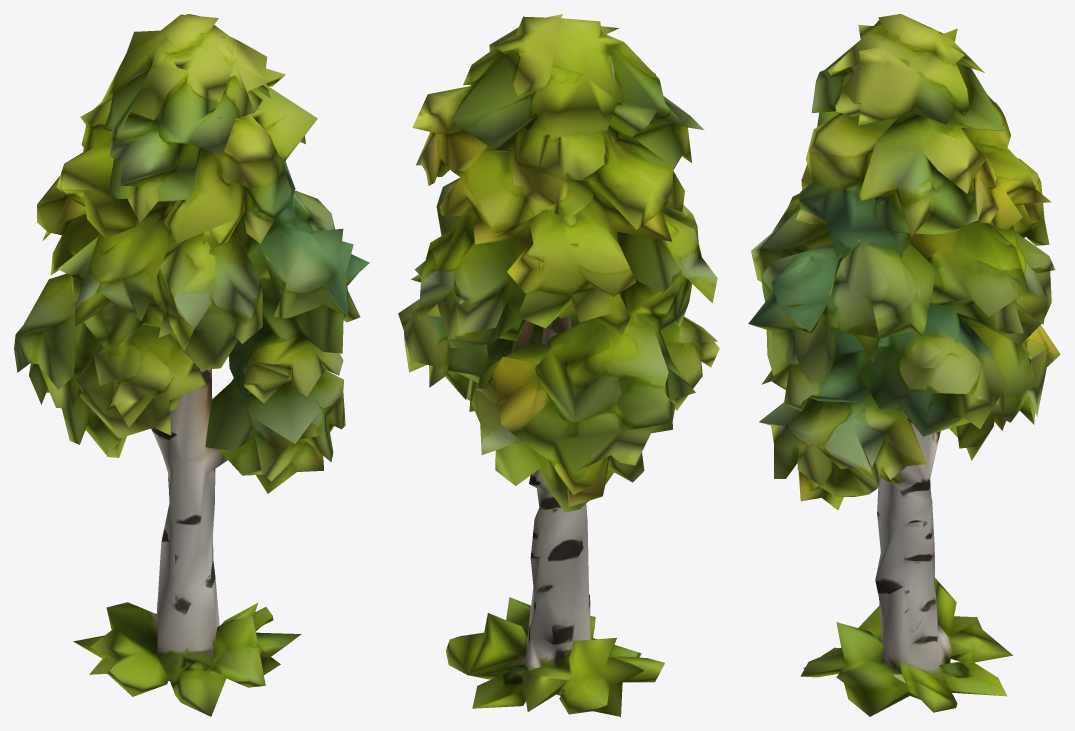
Rendered from env-birch.glb.
The picture shows the model from 3 angles, left to right: view 1: azimuth 30°, elevation 25°; view 2: azimuth 150°, elevation 25°; view 3: azimuth 270°, elevation 25°; orthographic projection. The views are drawn at different scales.
Parts seen in each view (by area): view 1: tripo_node_8fe8464e-f1a4-4d0b-8e62-d82f9ede452f; view 2: tripo_node_8fe8464e-f1a4-4d0b-8e62-d82f9ede452f; view 3: tripo_node_8fe8464e-f1a4-4d0b-8e62-d82f9ede452f.
Boxes of the visible parts, x1,y1,x2,y2 form: tripo_node_8fe8464e-f1a4-4d0b-8e62-d82f9ede452f: (14,14,369,716); tripo_node_8fe8464e-f1a4-4d0b-8e62-d82f9ede452f: (398,14,719,716); tripo_node_8fe8464e-f1a4-4d0b-8e62-d82f9ede452f: (748,14,1060,716).
Size of the model in its own units: 0.4369 by 0.9935 by 0.4252.
1 material, 1 textured.
